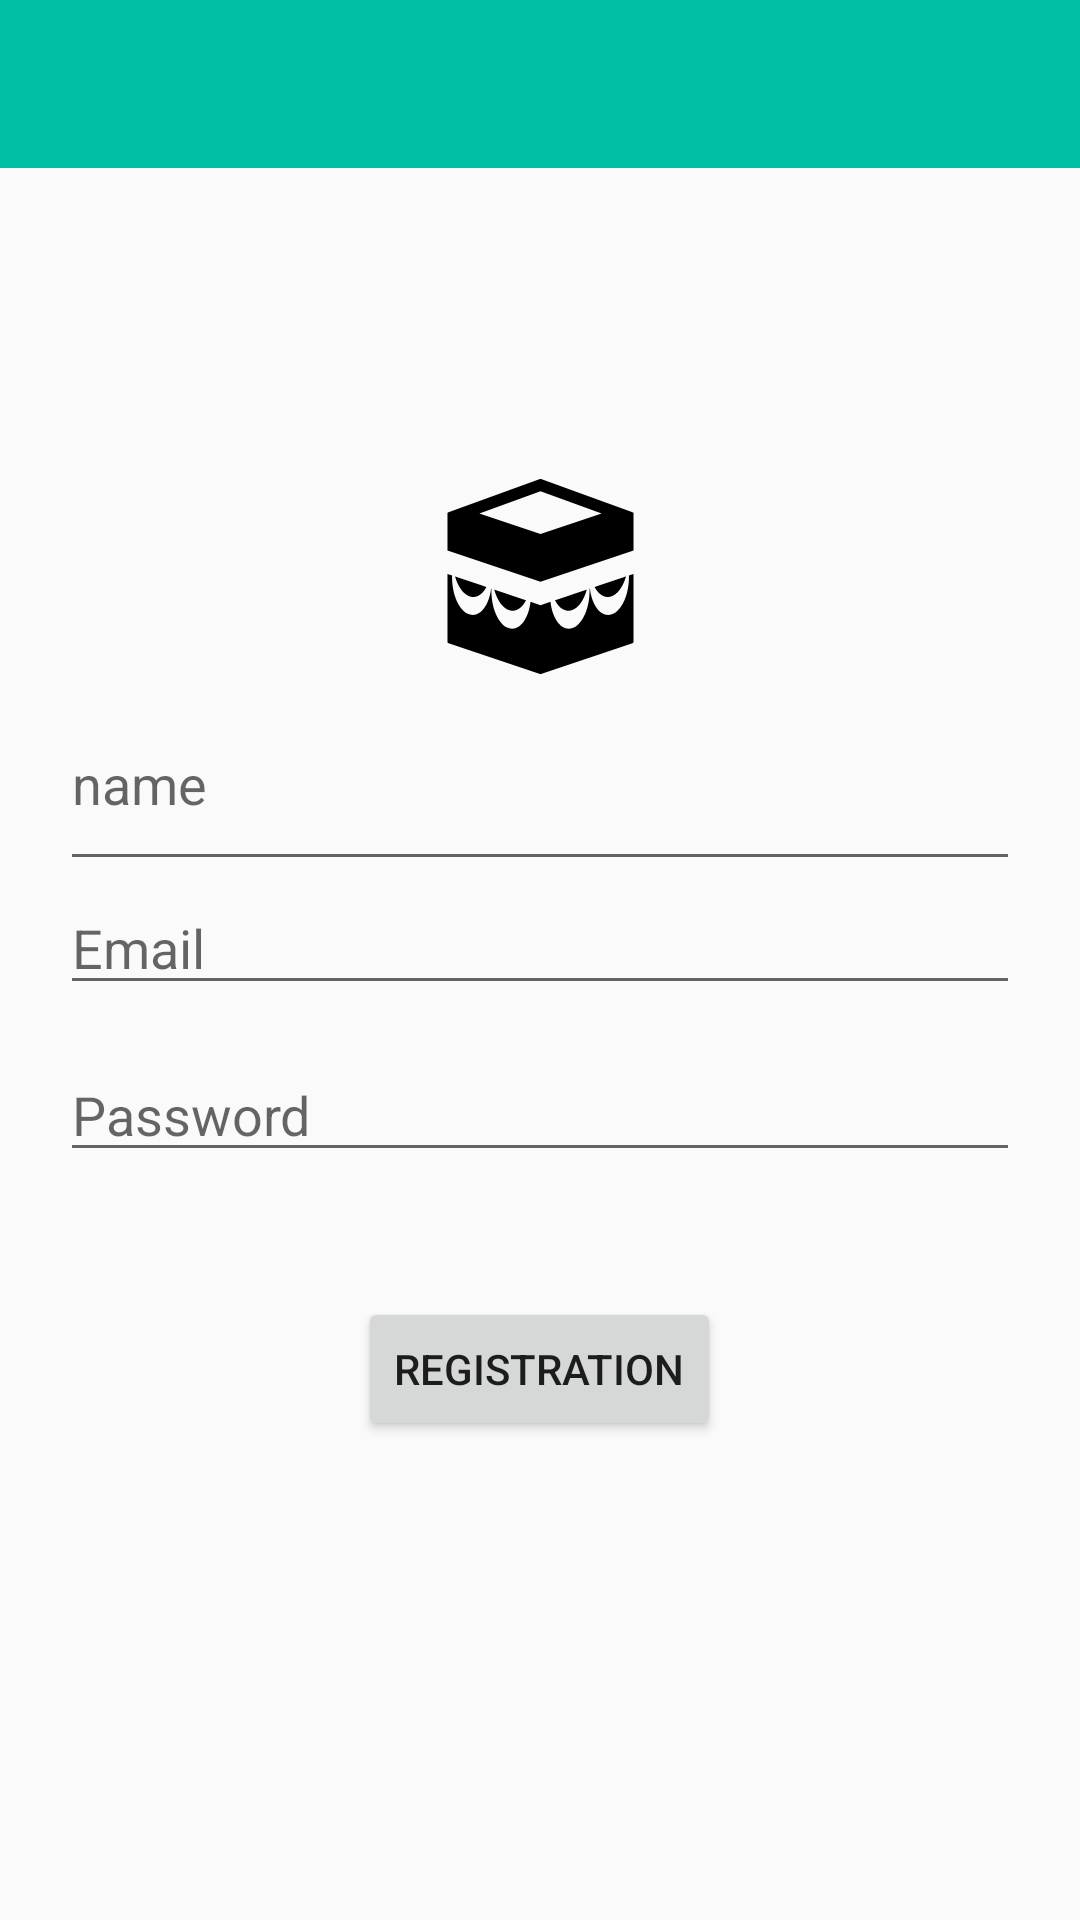

Named icons in this screenshot (1080*1920) and their centers, (x=x, y=y):
kaaba: (x=540, y=576)
